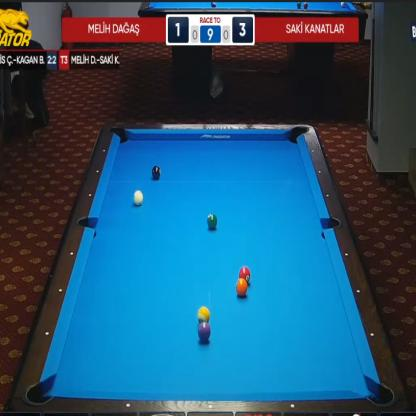Ball: (198, 322, 211, 342), (197, 306, 210, 322), (239, 266, 250, 284), (236, 278, 247, 296), (207, 213, 217, 230), (134, 190, 143, 206), (152, 166, 160, 180)
